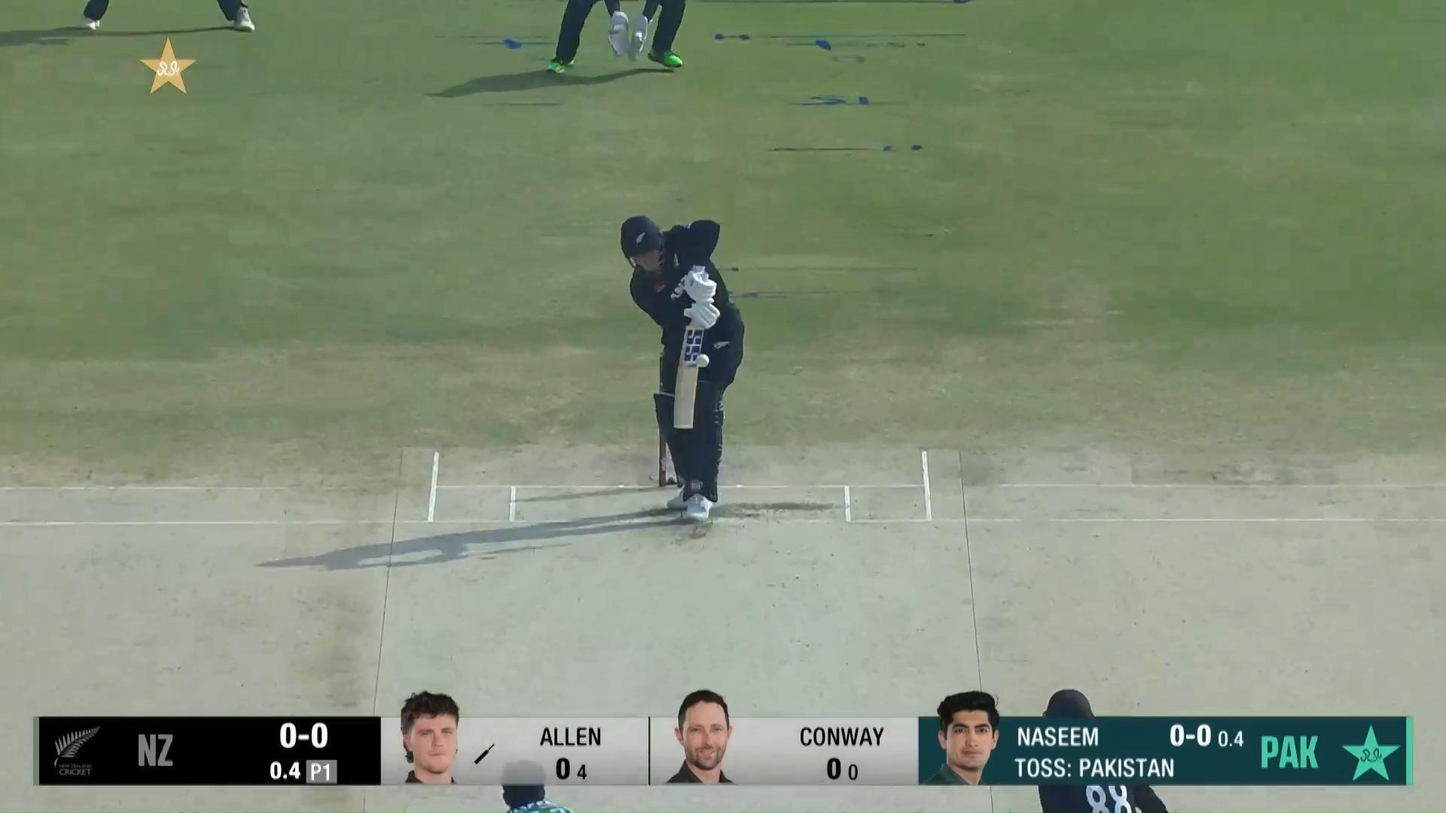BM 1: (620, 215, 745, 522)
BO: (498, 758, 577, 813)
